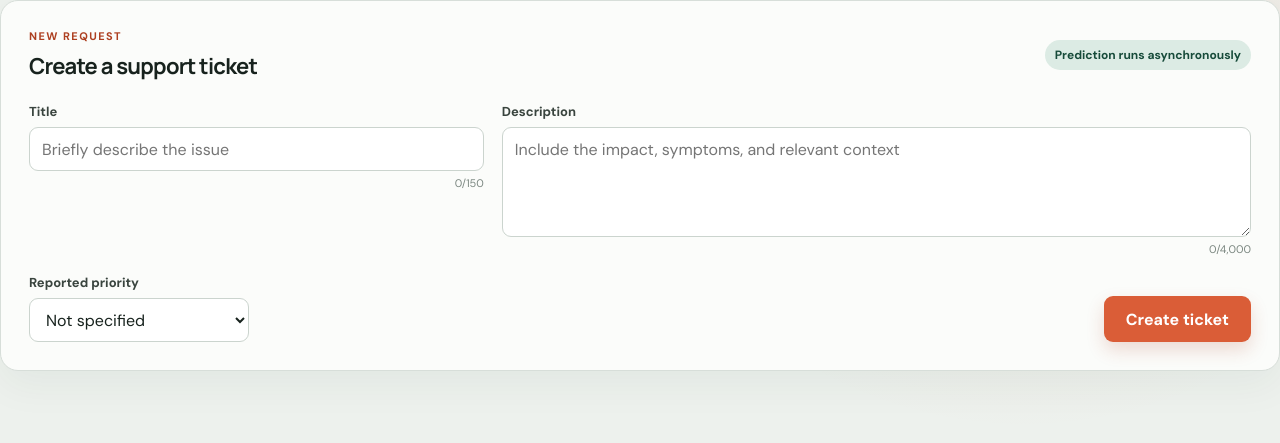
Test case: trims valid input, creates a ticket, and announces success
Type "  VPN access fails  " into the field labelled "Title" at {"x": 256, "y": 149}, box x1=29 y1=127 x2=484 y2=171
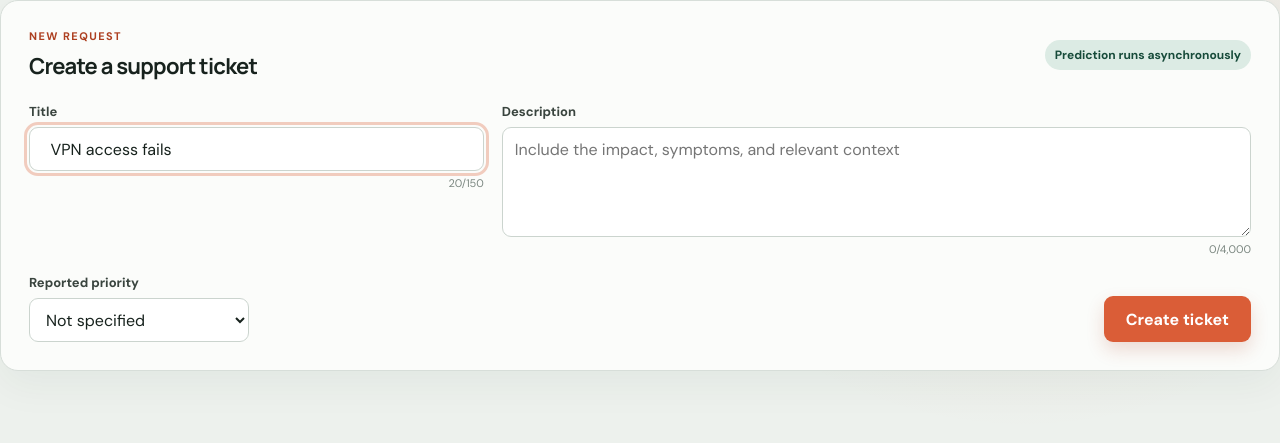
Type "  The employee cannot connect to the corporate VPN.  " into the text box labelled "Description" at {"x": 876, "y": 182}, box x1=502 y1=127 x2=1251 y2=237
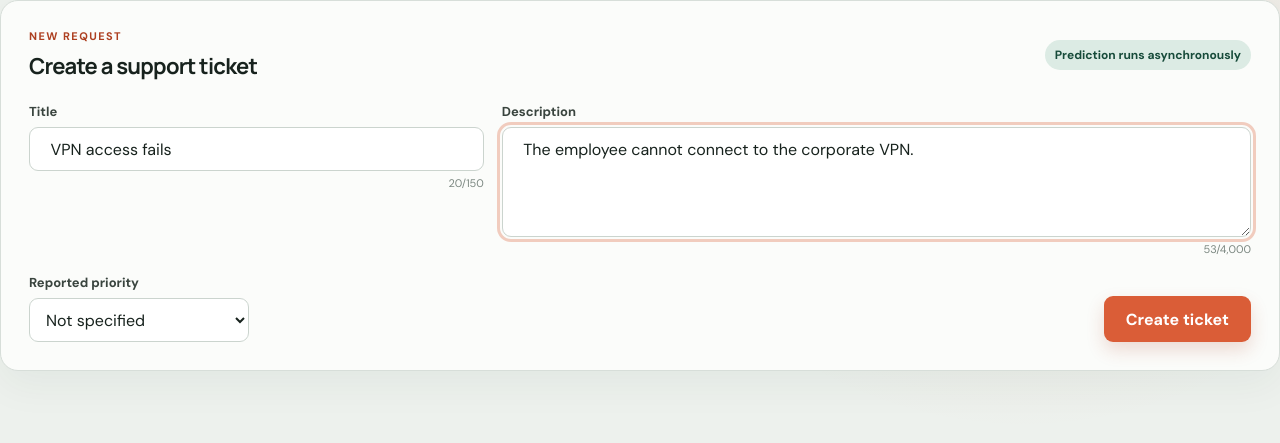
Select "High" in the dropdown labelled "Reported priority" at {"x": 139, "y": 320}, box x1=29 y1=298 x2=249 y2=342
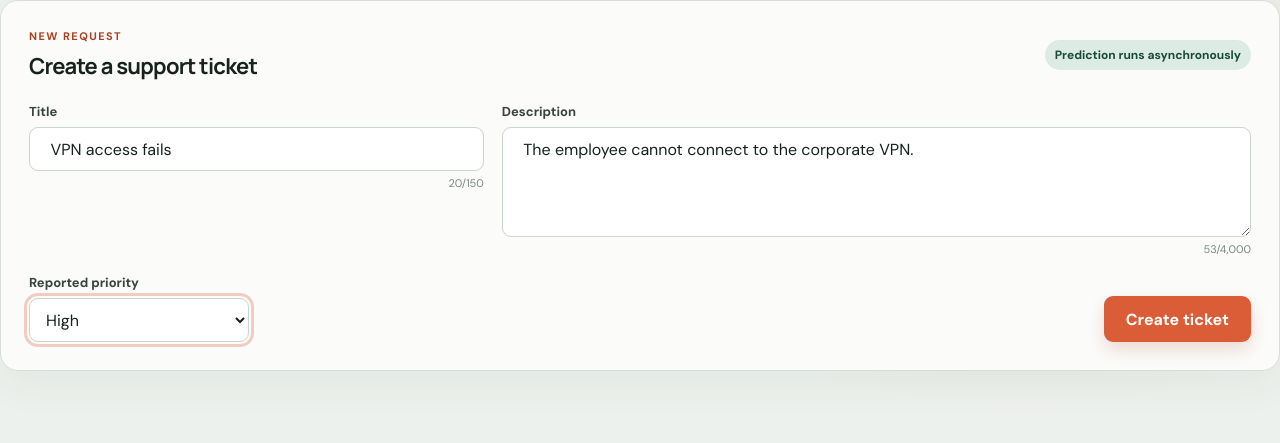
Click the button "Create ticket" at {"x": 1177, "y": 319}, box x1=1104 y1=296 x2=1251 y2=342
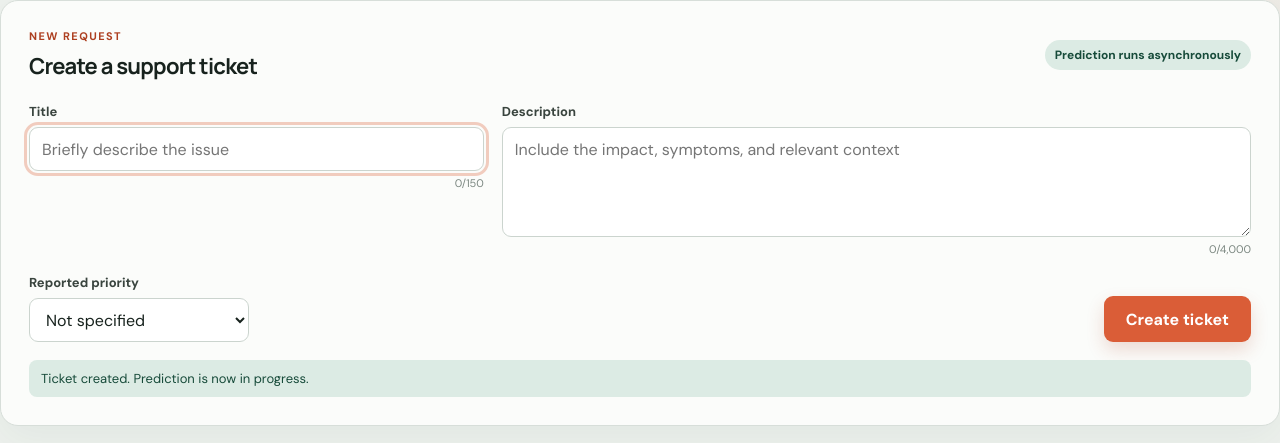
Result: the text "Ticket created. Prediction is now in progress." is shown at x1=29 y1=360 x2=1251 y2=397
